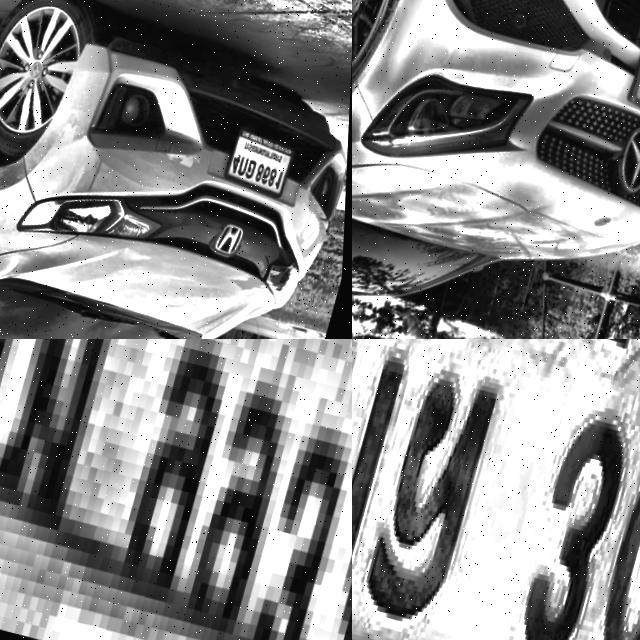license-plate: (0, 339, 352, 640), (352, 339, 640, 640), (221, 118, 303, 195), (620, 36, 640, 131)
